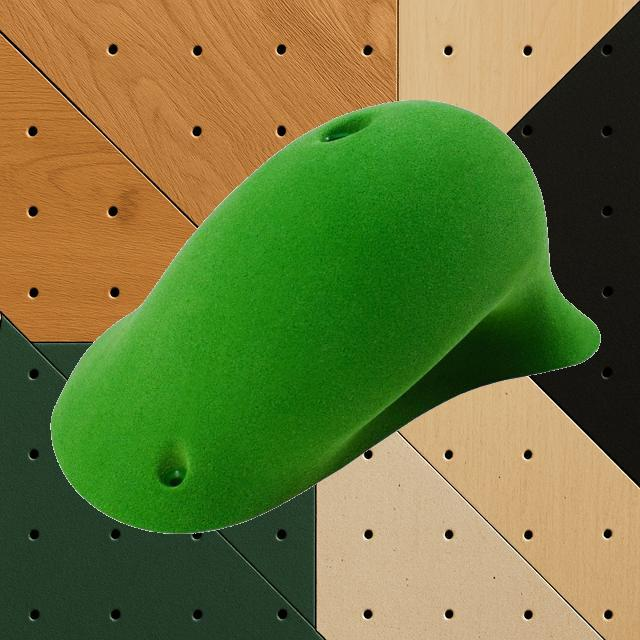Jug: (49, 98, 600, 534)
